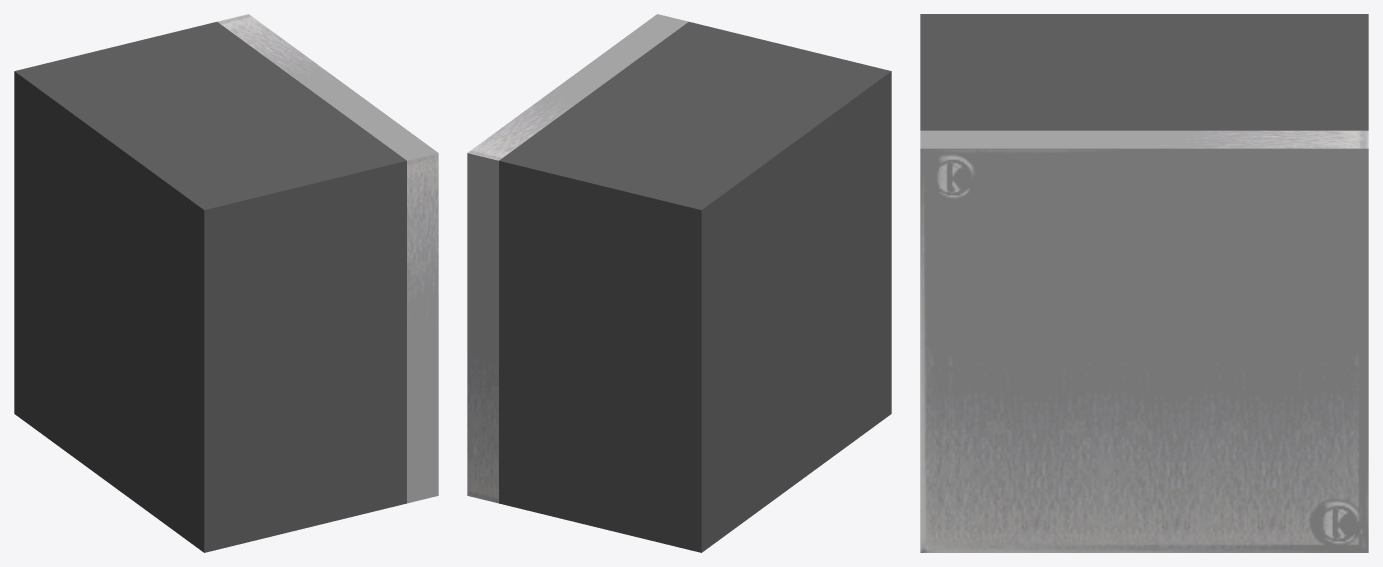
File: GYM_Electrical_Box_1.fbx
The picture shows the model from 3 angles, left to right: view 1: azimuth 30°, elevation 25°; view 2: azimuth 150°, elevation 25°; view 3: azimuth 270°, elevation 25°; orthographic projection. The views are drawn at different scales.
Parts seen in each view (by area): view 1: GYM_Panel; view 2: GYM_Panel; view 3: GYM_Panel.
Part boxes in pixels (left/top/right/bottom): GYM_Panel: left=14, top=14, right=438, bottom=552; GYM_Panel: left=467, top=14, right=891, bottom=552; GYM_Panel: left=920, top=14, right=1368, bottom=552.
Bounding box in the file's own units: 0.1177 × 0.1645 × 0.1653.
Materials: 2 (1 with a texture image).
